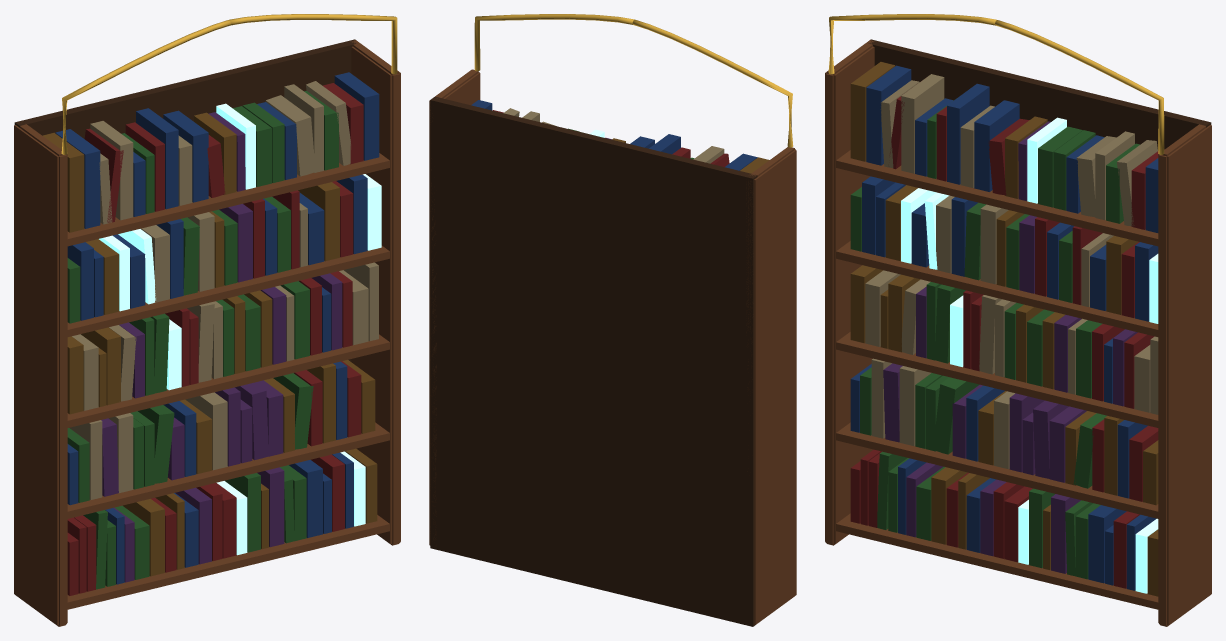
The model's file is elven-bookcase.glb.
3 renders of one model, left to right at view 1: azimuth 30°, elevation 25°; view 2: azimuth 150°, elevation 25°; view 3: azimuth 330°, elevation 25°, orthographic. The views are drawn at different scales.
Visible parts, largest first — view 1: Model Mesh; view 2: Model Mesh; view 3: Model Mesh.
Boxes of the visible parts, x1,y1,x2,y2 form: Model Mesh: (14, 14, 400, 626); Model Mesh: (429, 14, 796, 626); Model Mesh: (825, 14, 1211, 626).
Bounding box in the file's own units: 1.98 × 3.11 × 0.46.
